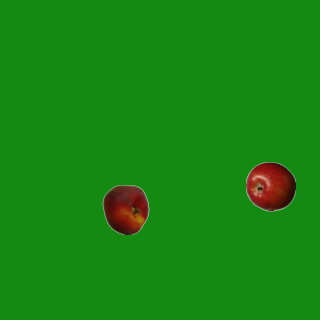Apple Braeburn: (245, 161, 295, 211)
Nectarine Flat: (100, 184, 150, 234)
